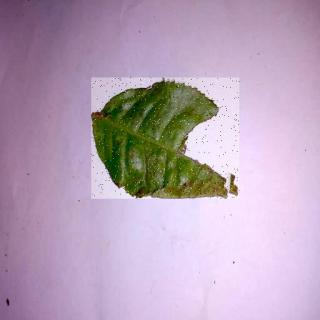Bird Eye Spot: (93, 79, 241, 200)
